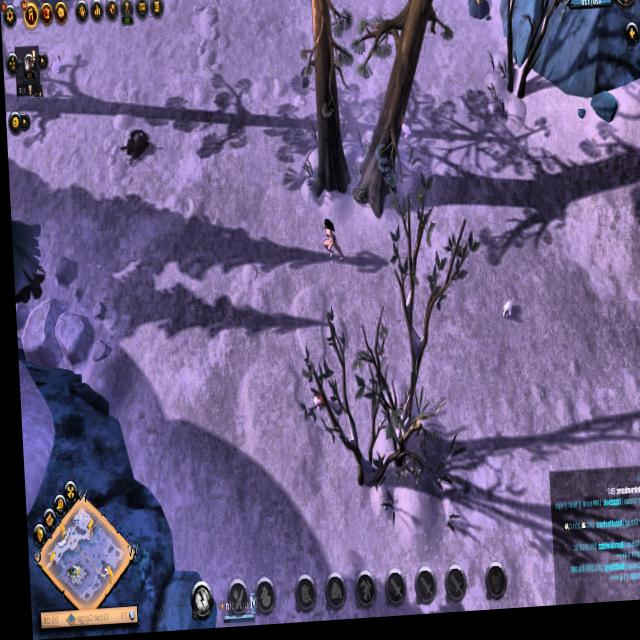copper_ore: (463, 0, 490, 31)
